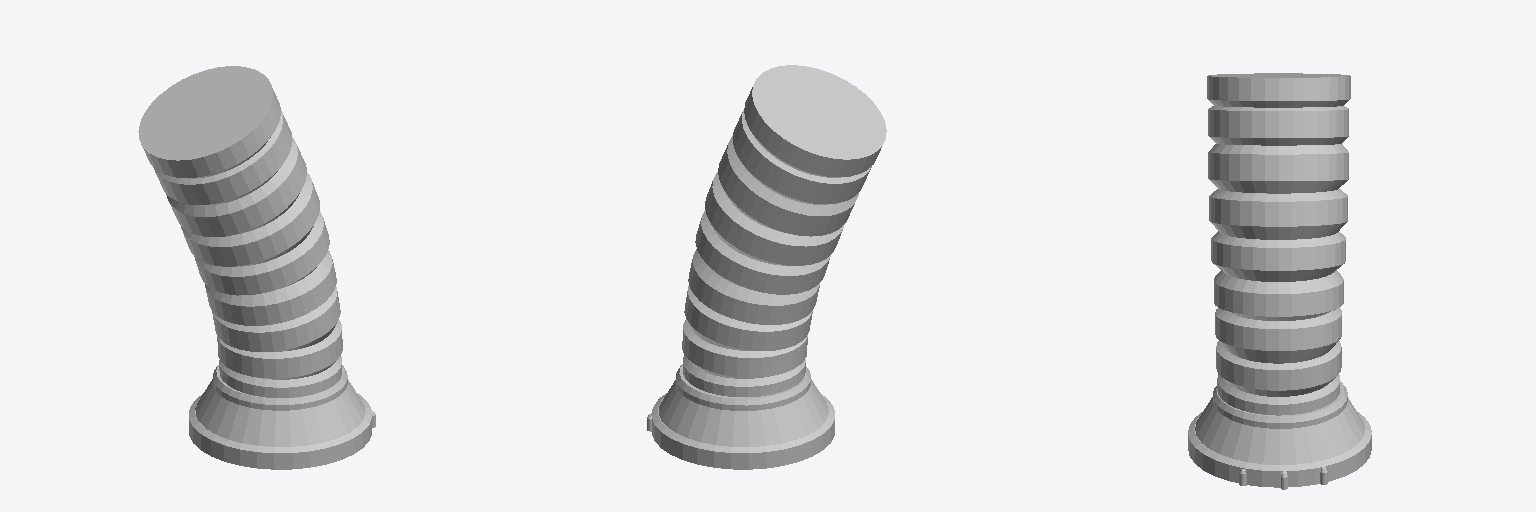
File: PataIzq1.obj
3 views of the same model, side by side, from view 1: azimuth 30°, elevation 25°; view 2: azimuth 150°, elevation 25°; view 3: azimuth 270°, elevation 25° (orthographic).
Parts seen in each view (by area): view 1: C_rculo_006_C_rculo_007, C_rculo_012_C_rculo_013, C_rculo_011_C_rculo_012, C_rculo_013_C_rculo_014; view 2: C_rculo_006_C_rculo_007, C_rculo_012_C_rculo_013, C_rculo_011_C_rculo_012, C_rculo_013_C_rculo_014; view 3: C_rculo_006_C_rculo_007, C_rculo_012_C_rculo_013, C_rculo_011_C_rculo_012, C_rculo_013_C_rculo_014.
Boxes of the visible parts, x1,y1,x2,y2 form: C_rculo_006_C_rculo_007: [138, 66, 342, 397]; C_rculo_012_C_rculo_013: [195, 379, 364, 446]; C_rculo_011_C_rculo_012: [189, 393, 371, 469]; C_rculo_013_C_rculo_014: [213, 365, 347, 410]; C_rculo_006_C_rculo_007: [682, 65, 886, 396]; C_rculo_012_C_rculo_013: [659, 379, 828, 446]; C_rculo_011_C_rculo_012: [652, 393, 834, 469]; C_rculo_013_C_rculo_014: [676, 364, 810, 410]; C_rculo_006_C_rculo_007: [1207, 73, 1350, 415]; C_rculo_012_C_rculo_013: [1195, 397, 1364, 464]; C_rculo_011_C_rculo_012: [1188, 412, 1371, 487]; C_rculo_013_C_rculo_014: [1213, 381, 1347, 428].
Bounding box in the file's own units: 1.39 × 2.24 × 1.03.